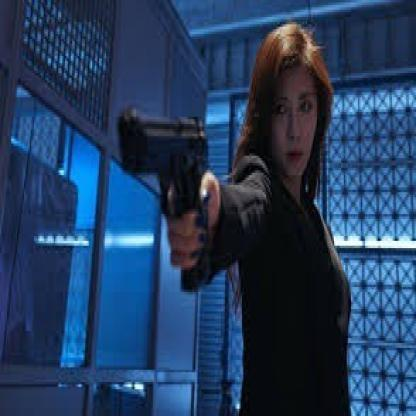Pistol: (115, 102, 208, 243)
